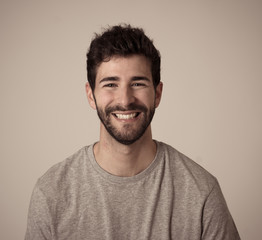young: (82, 18, 169, 150)
